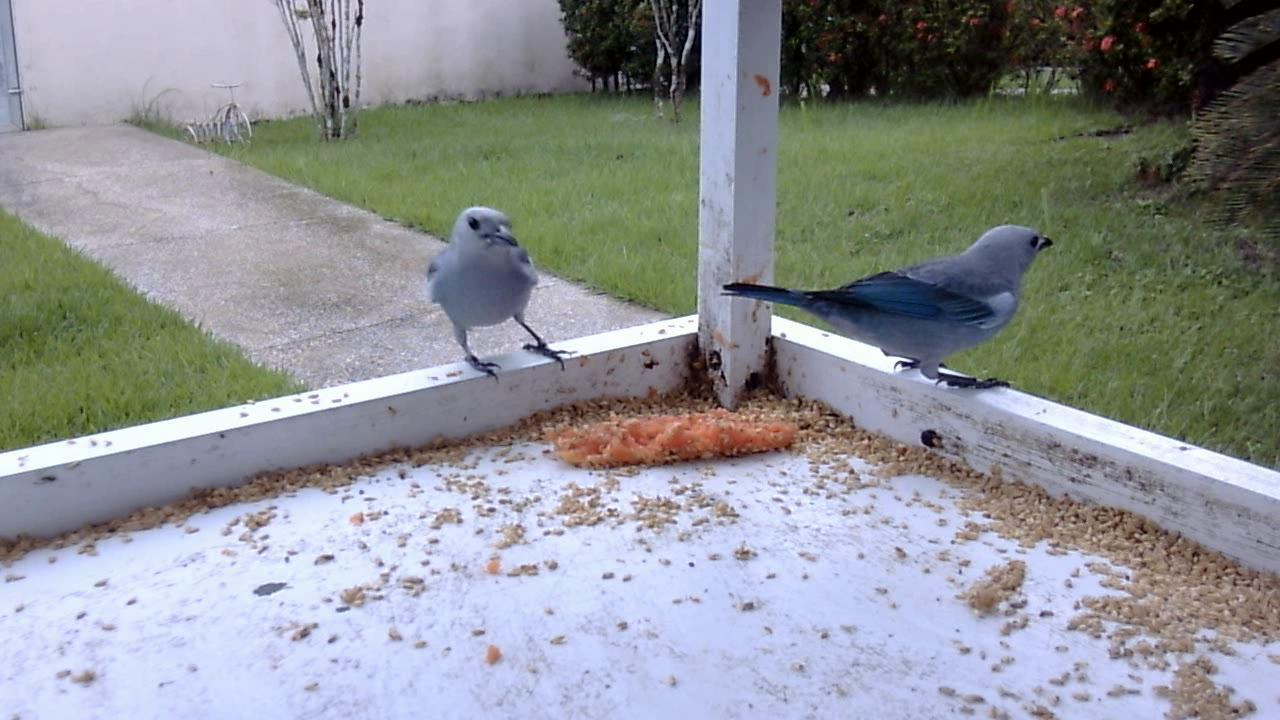sanhaco_da_amazonia: (717, 222, 1057, 400), (409, 203, 575, 387)
